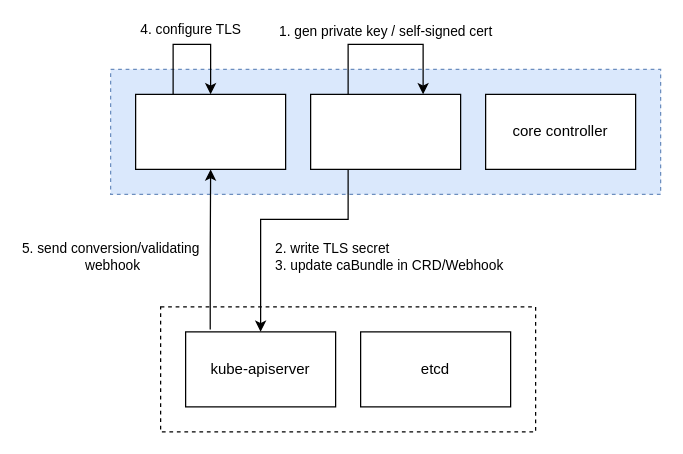
Image size: 683x454. Some labels were removed from this diagram. Here are the shapes that lost their labels. From the top down, the centre of each, then its label:
the point at 210,131: webhook
the point at 385,131: cert-controller
